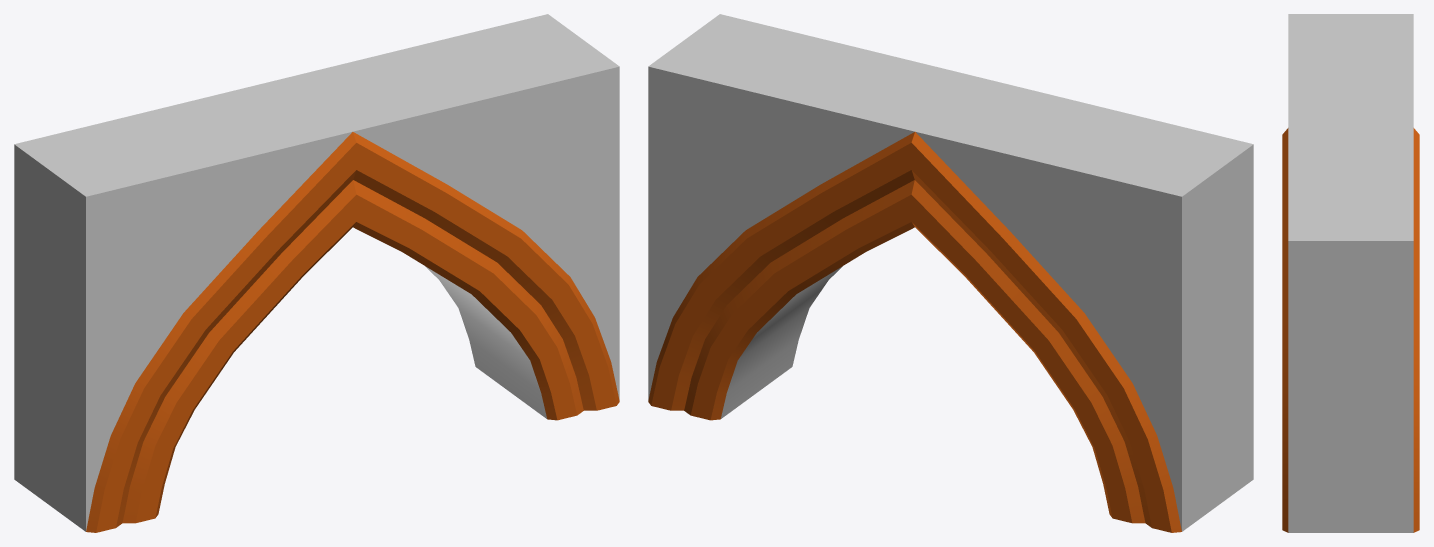
Rendered from dfk_arch_0_blocked_small.fbx.
3 renders of one model, left to right at view 1: azimuth 30°, elevation 25°; view 2: azimuth 150°, elevation 25°; view 3: azimuth 270°, elevation 25°, orthographic. The views are drawn at different scales.
Parts seen in each view (by area): view 1: Arch_1a_block_1; view 2: Arch_1a_block_1; view 3: Arch_1a_block_1.
Boxes of the visible parts, x1=… form: Arch_1a_block_1: x1=14, y1=14, x2=619, y2=532; Arch_1a_block_1: x1=648, y1=14, x2=1253, y2=532; Arch_1a_block_1: x1=1282, y1=14, x2=1419, y2=532.
Size of the model in its own units: 5 by 3 by 1.28.
